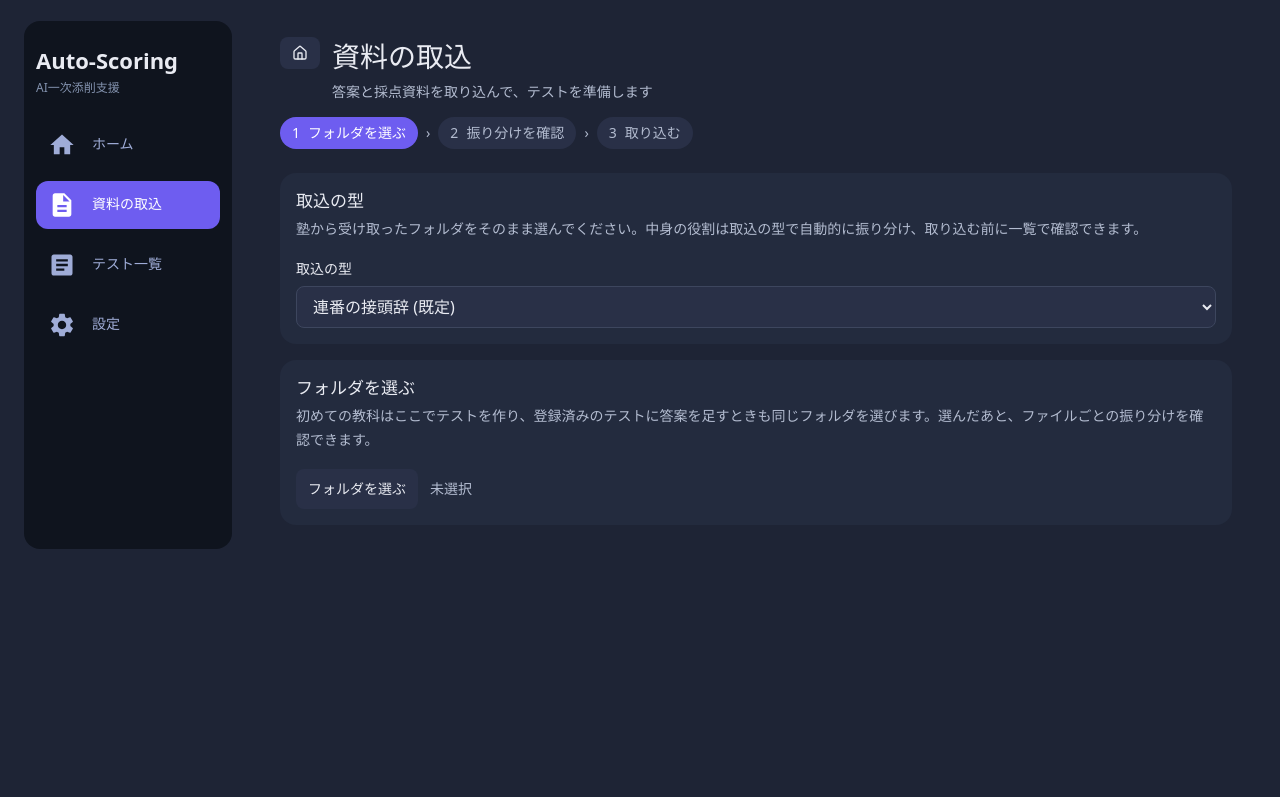
IntakePage invariants › INV-127: completion screen does not claim grading is ready
Expected: the dropdown with test id "intake-template-picker" is shown, [296, 286, 1216, 328]
Click the button with test id "intake-choose-folder": x=357, y=489 [296, 469, 418, 509]
(page scrolled)
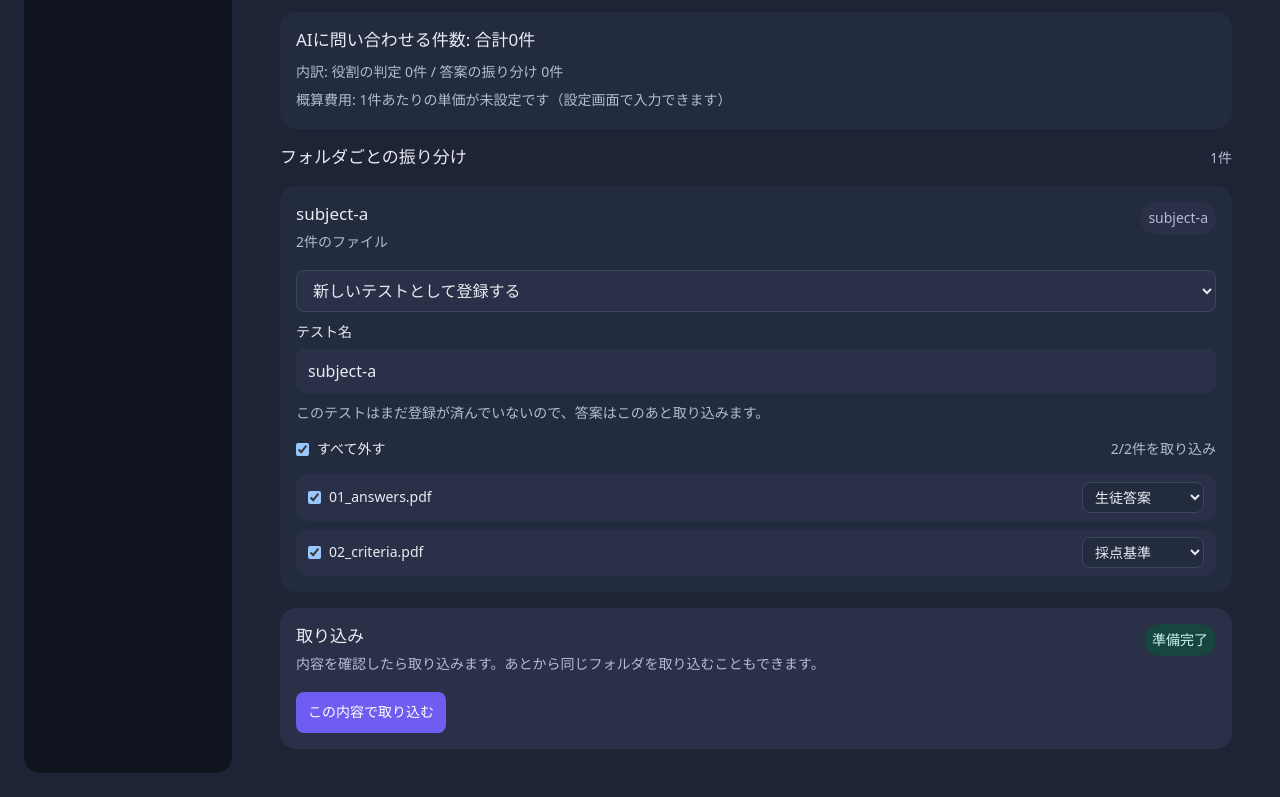
Expected: the element with test id "intake-call-estimate" is shown, [280, 12, 1232, 129]
Click the button with test id "intake-import": x=371, y=712 [296, 692, 446, 733]
(page scrolled)
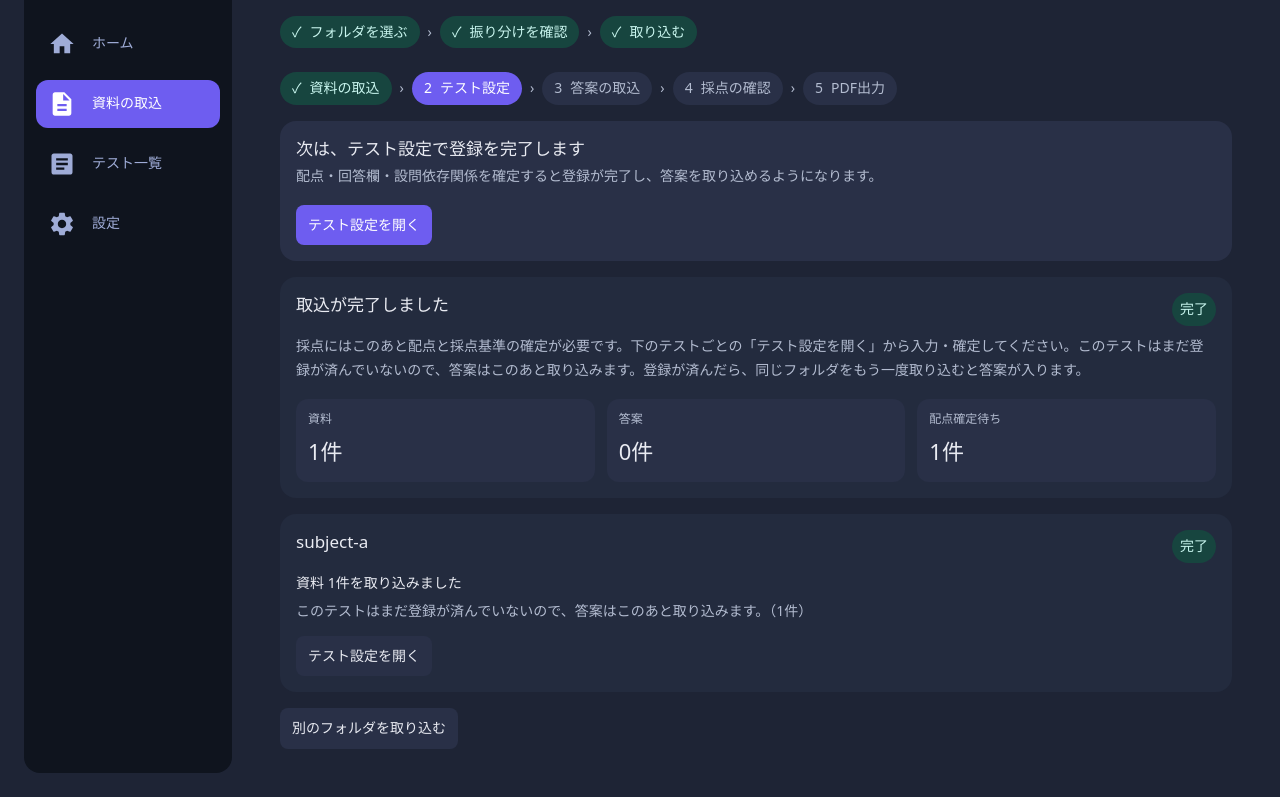
Expected: the text with test id "intake-next-step-notice" is shown, [296, 334, 1216, 383]
Expected: the text "配点と採点基準の確定が必要です" is shown, [296, 336, 1078, 355]
